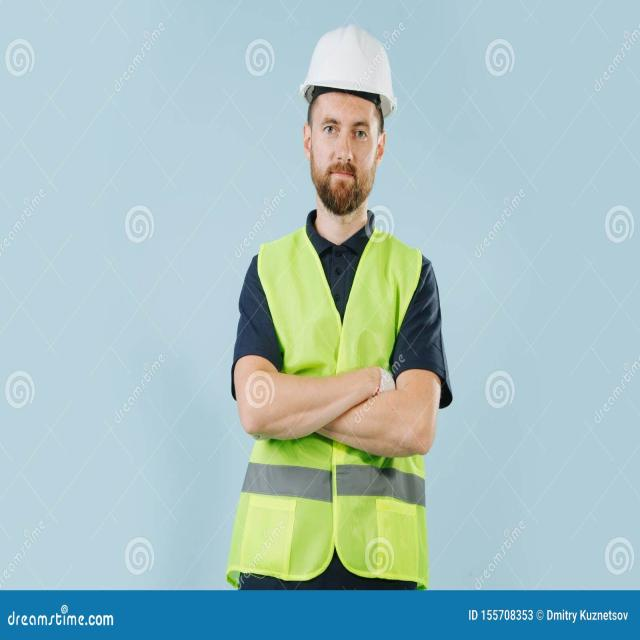helmet: (302, 22, 396, 114)
no-goggles: (302, 100, 387, 154)
vest: (244, 220, 425, 582)
